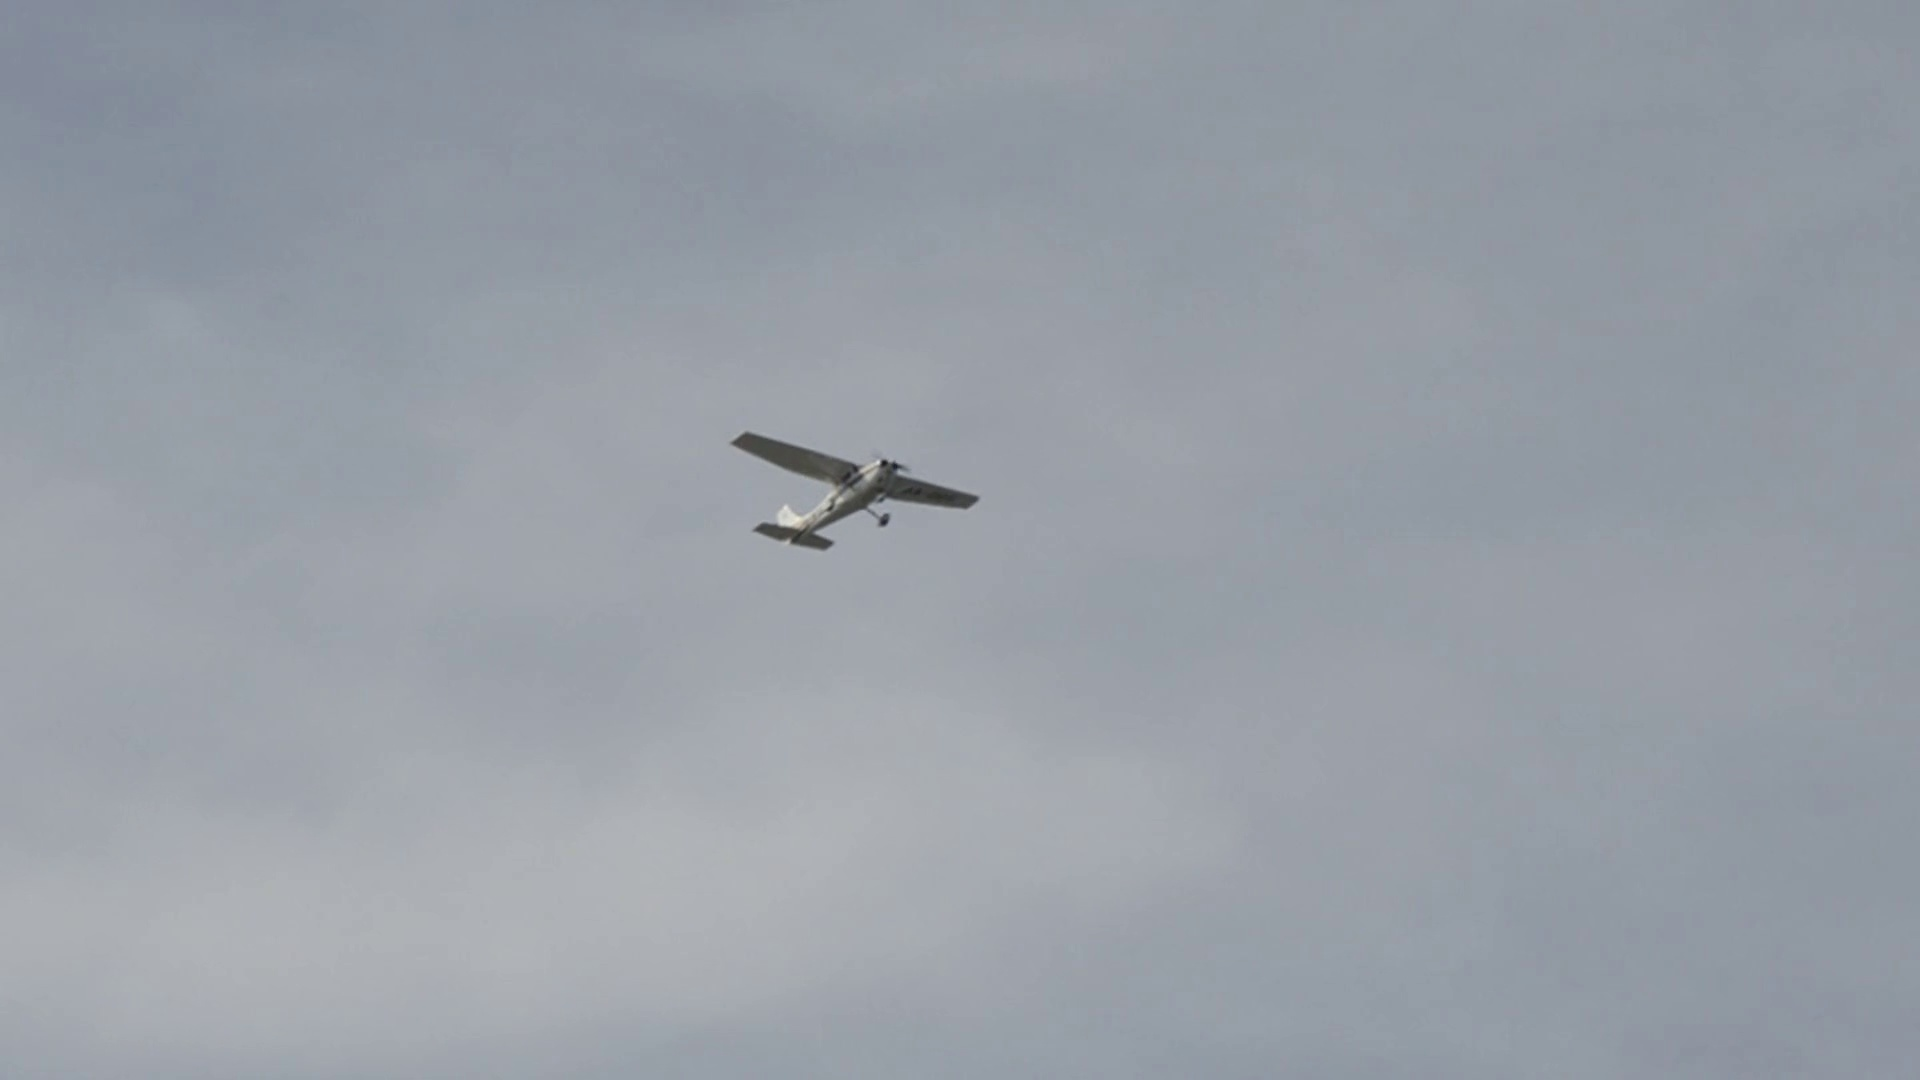plane: (729, 433, 982, 553)
